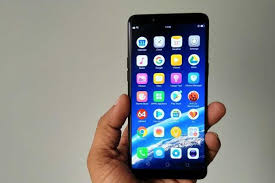oppo: (125, 6, 214, 179)
